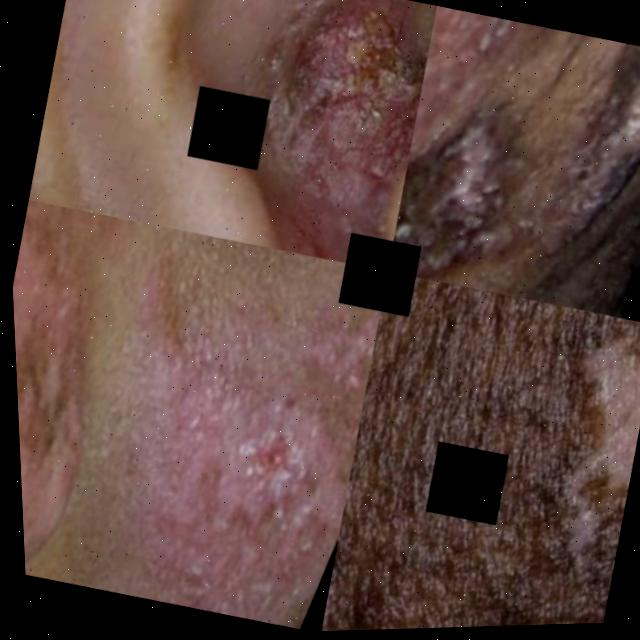lupus-detected: (32, 209, 402, 639), (19, 0, 449, 281), (353, 272, 640, 630), (9, 195, 201, 596), (376, 1, 601, 306), (551, 32, 640, 194)
